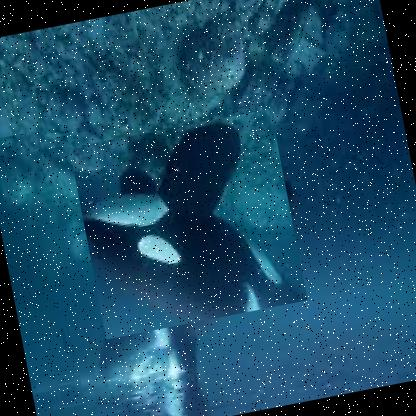killer_whale: (68, 107, 308, 339)
